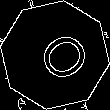O_SW: (22, 23, 88, 87)
